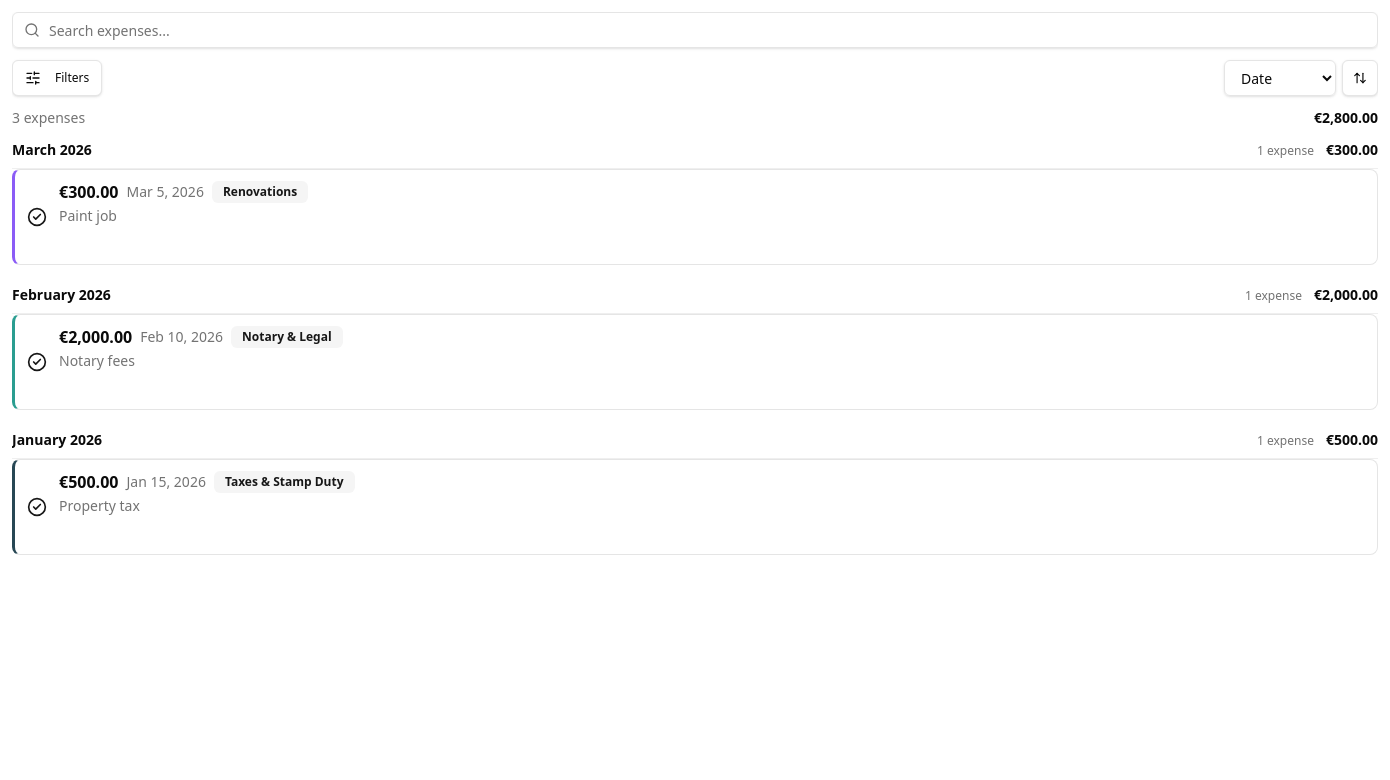
Test: ExpenseList filtering and search › filters expenses by search text (case-insensitive)
Step 1. Type "notary" into the field with placeholder "Search expenses..." → (695, 30), box x1=12 y1=12 x2=1378 y2=48
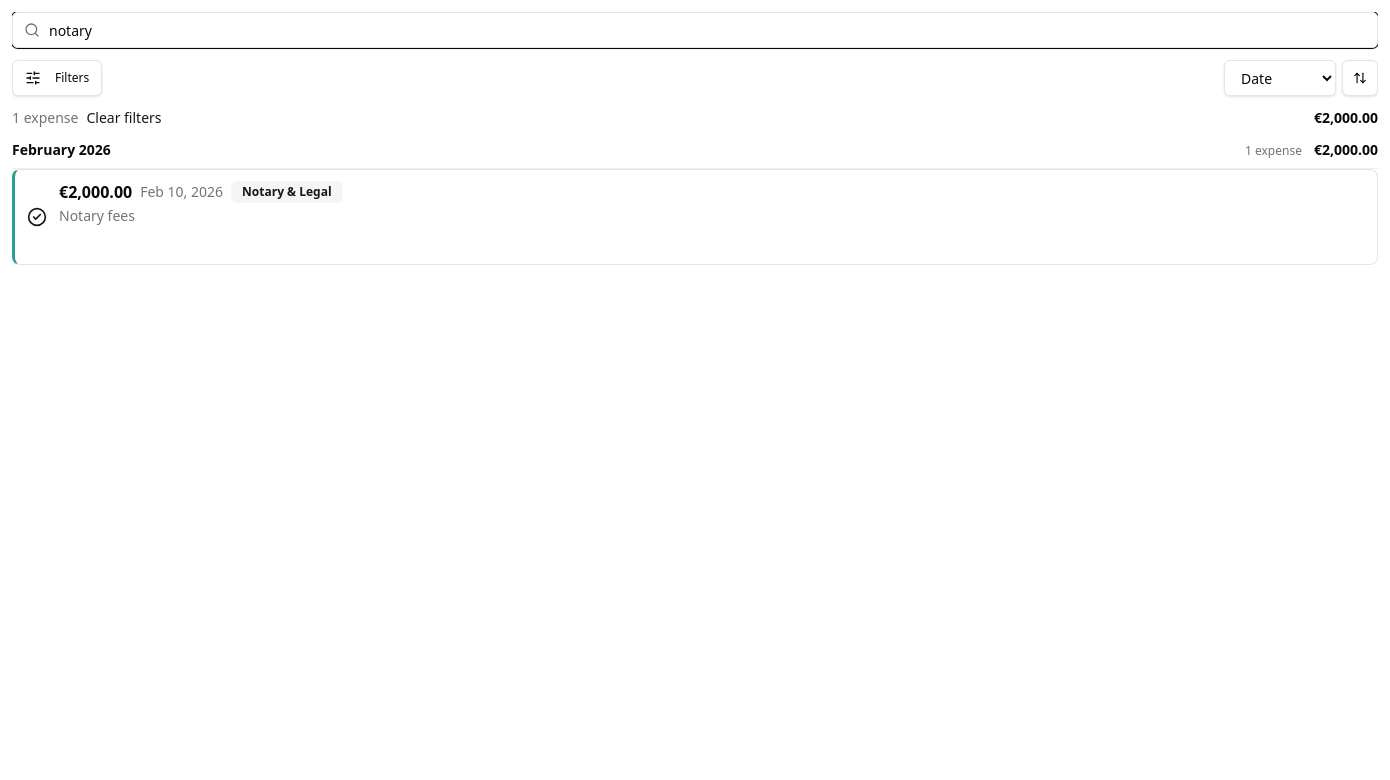
Expected: the text "Notary fees" is shown, x1=59 y1=206 x2=135 y2=225
Result: the text "Property tax" is gone
Result: the text "Paint job" is gone
